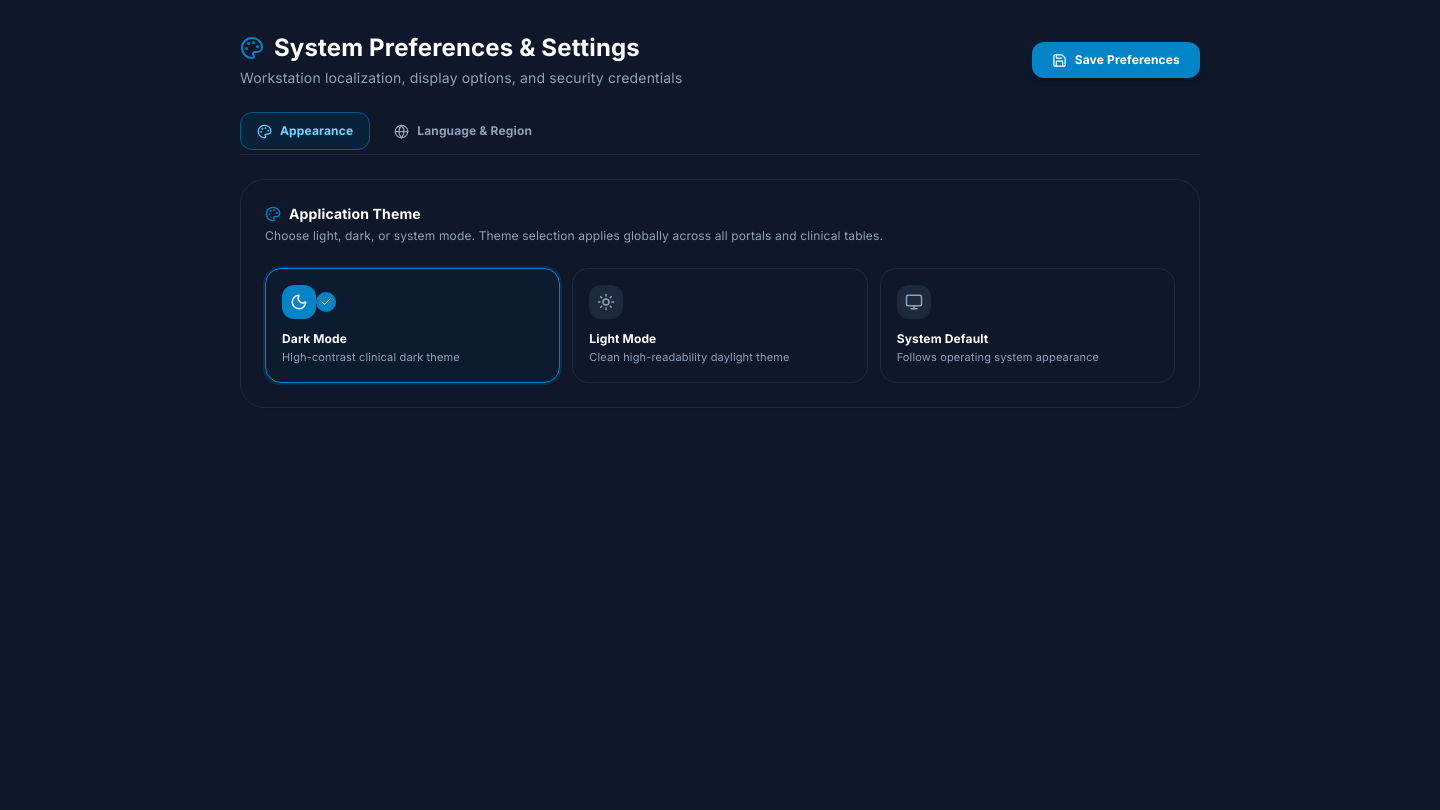
Test: Settings Page Simplification & Verification › 3. Functional Save Action & Feedback › persists selected settings when Save Settings button is clicked and shows success feedback
The image size is (1440, 810).
Select light theme
Click the button with test id "theme-option-light": [606, 302] box [572, 268, 868, 382]
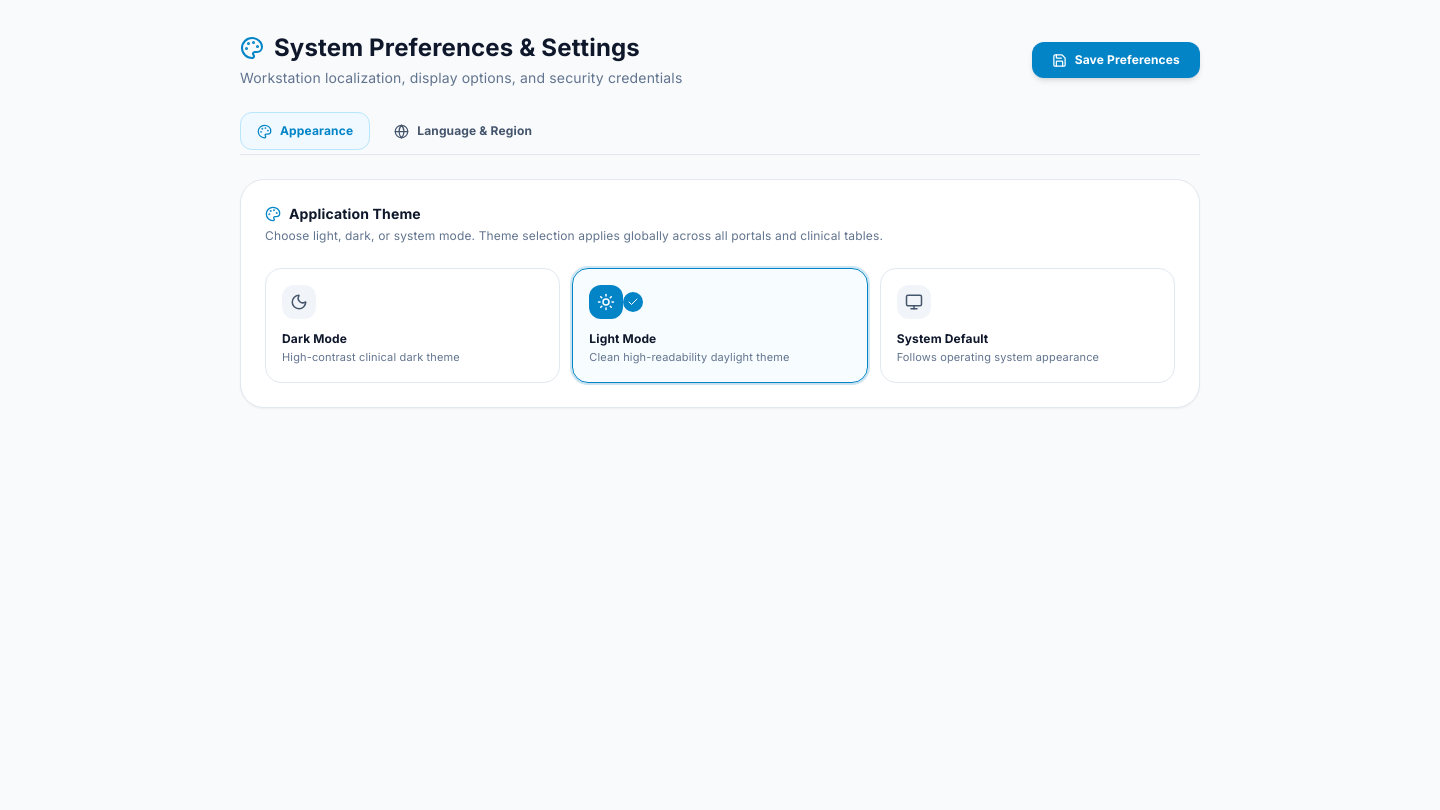
Switch to language tab and configure region
Click the button "Language & Region": [463, 131] box [378, 113, 548, 149]
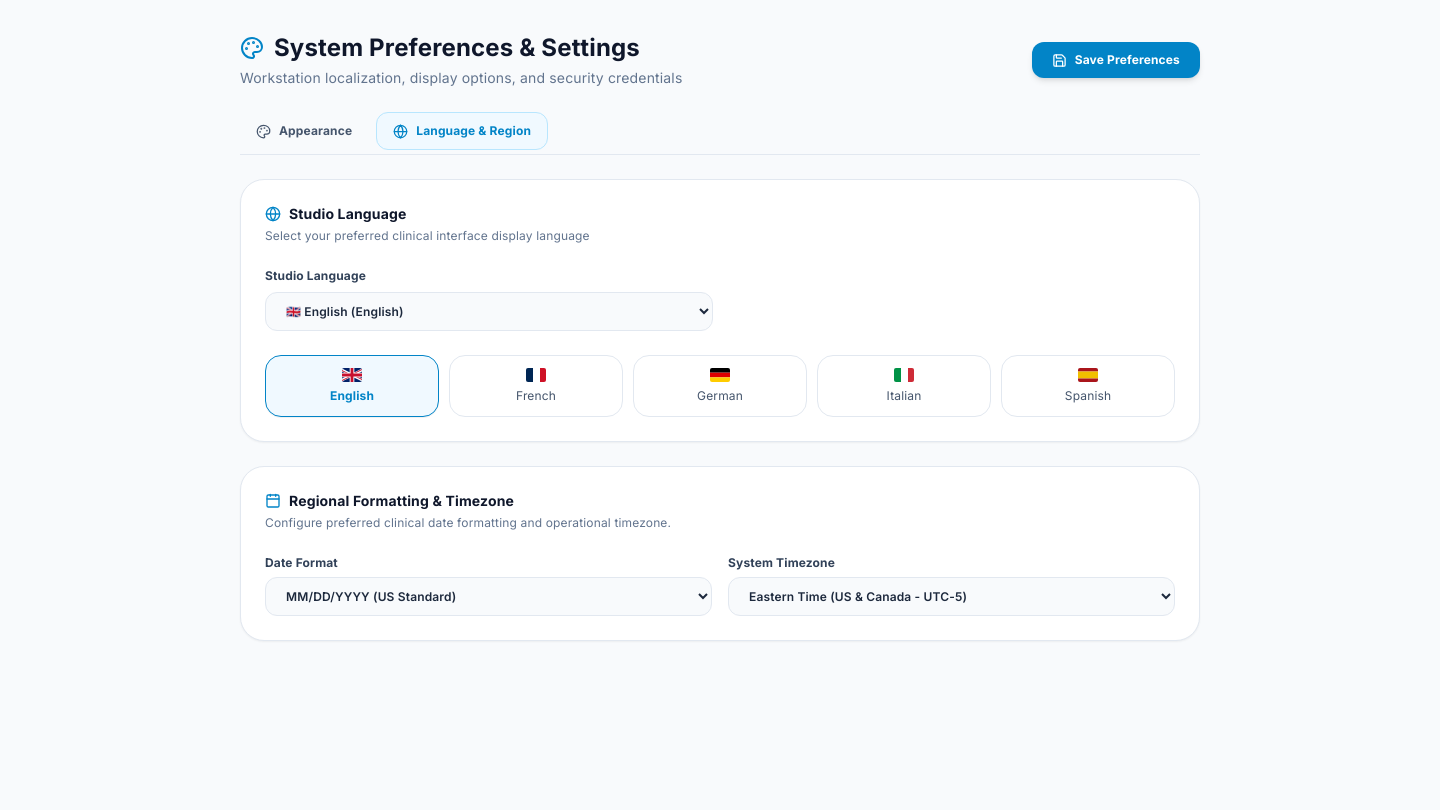
Select "YYYY-MM-DD (ISO 8601)" in the dropdown labelled "Date Format": [488, 596] box [265, 577, 712, 616]
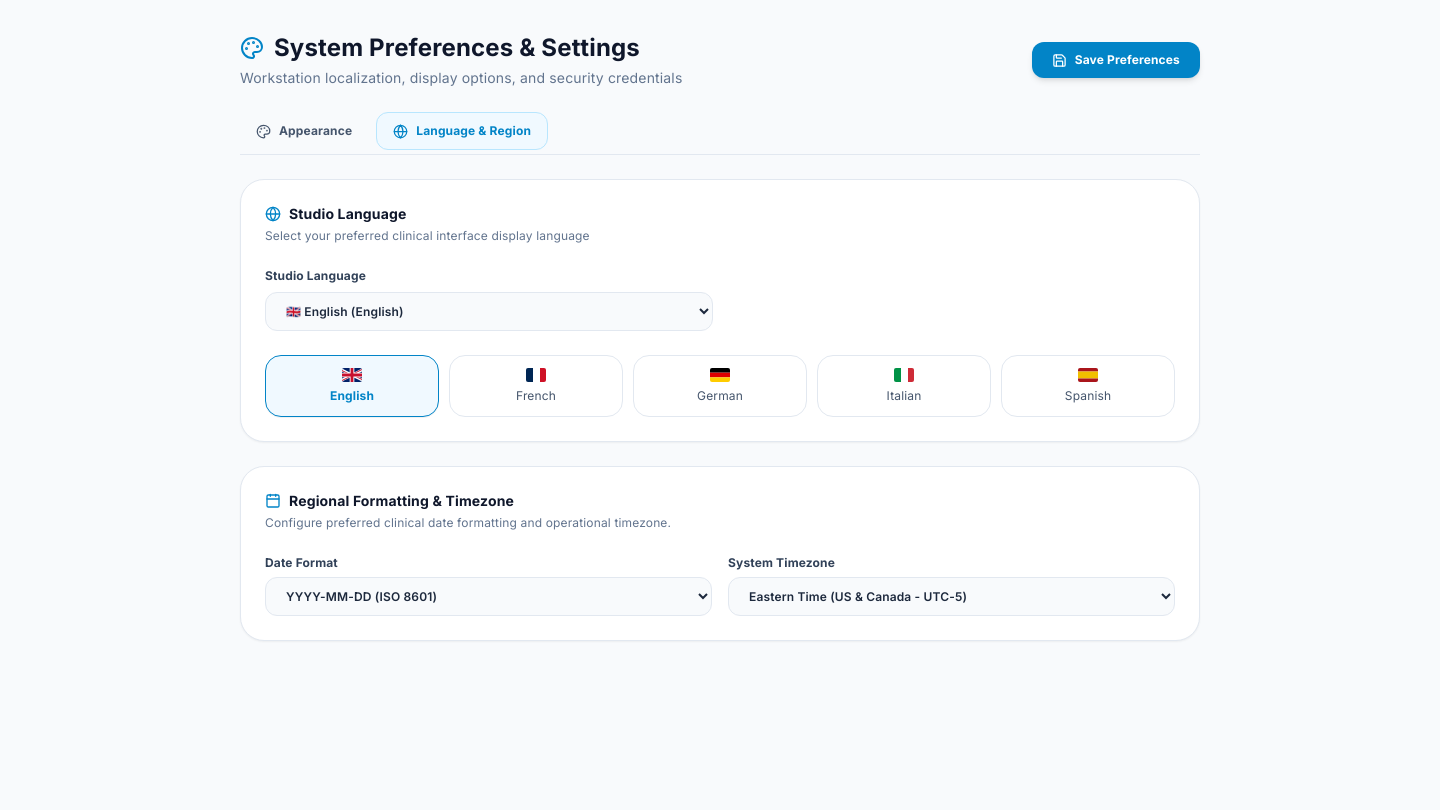
Select "Paris / Berlin (UTC+1)" in the dropdown named "operational timezone": [952, 596] box [728, 577, 1175, 616]
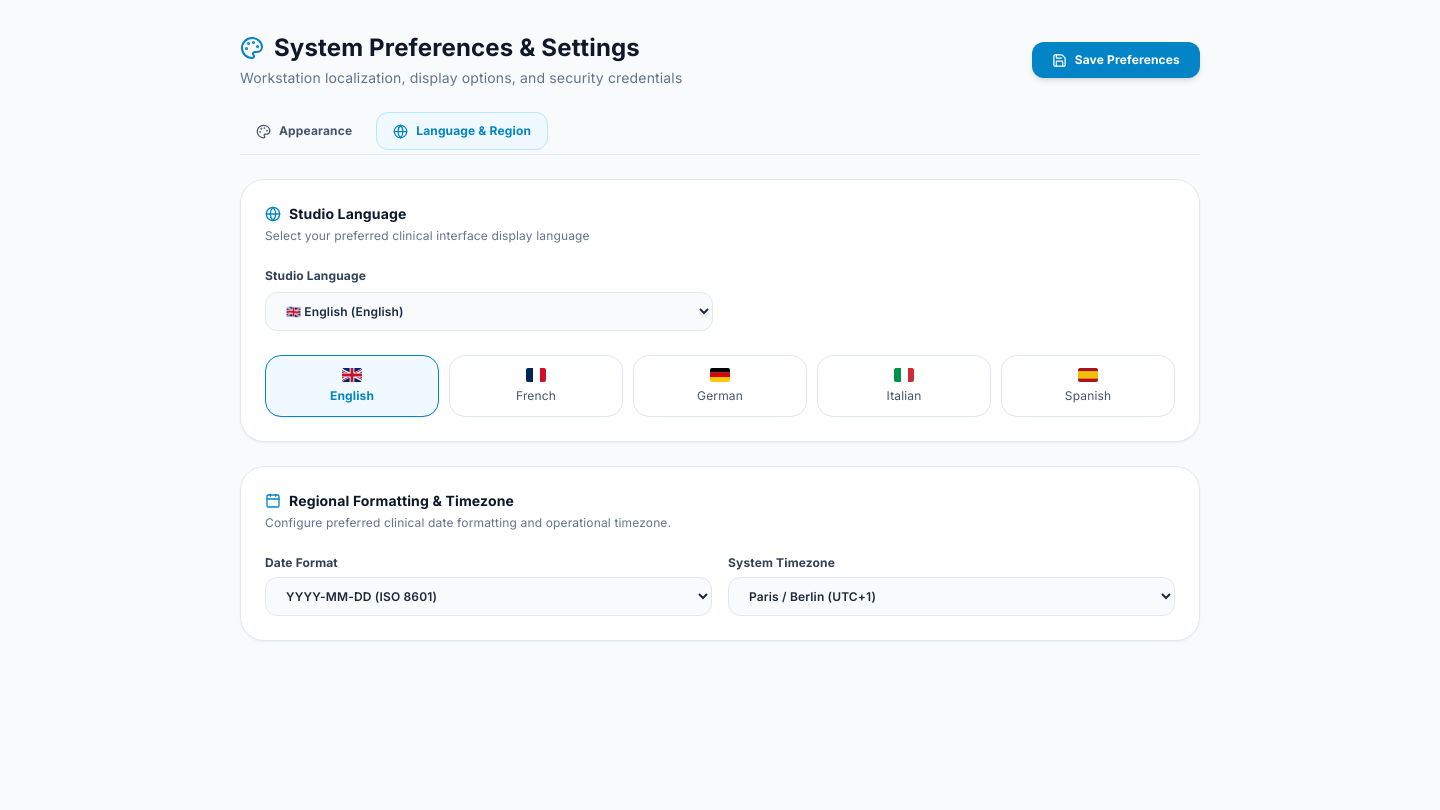
Click Save Settings
Click the button with test id "save-settings-button": [1116, 60] box [1032, 42, 1200, 78]
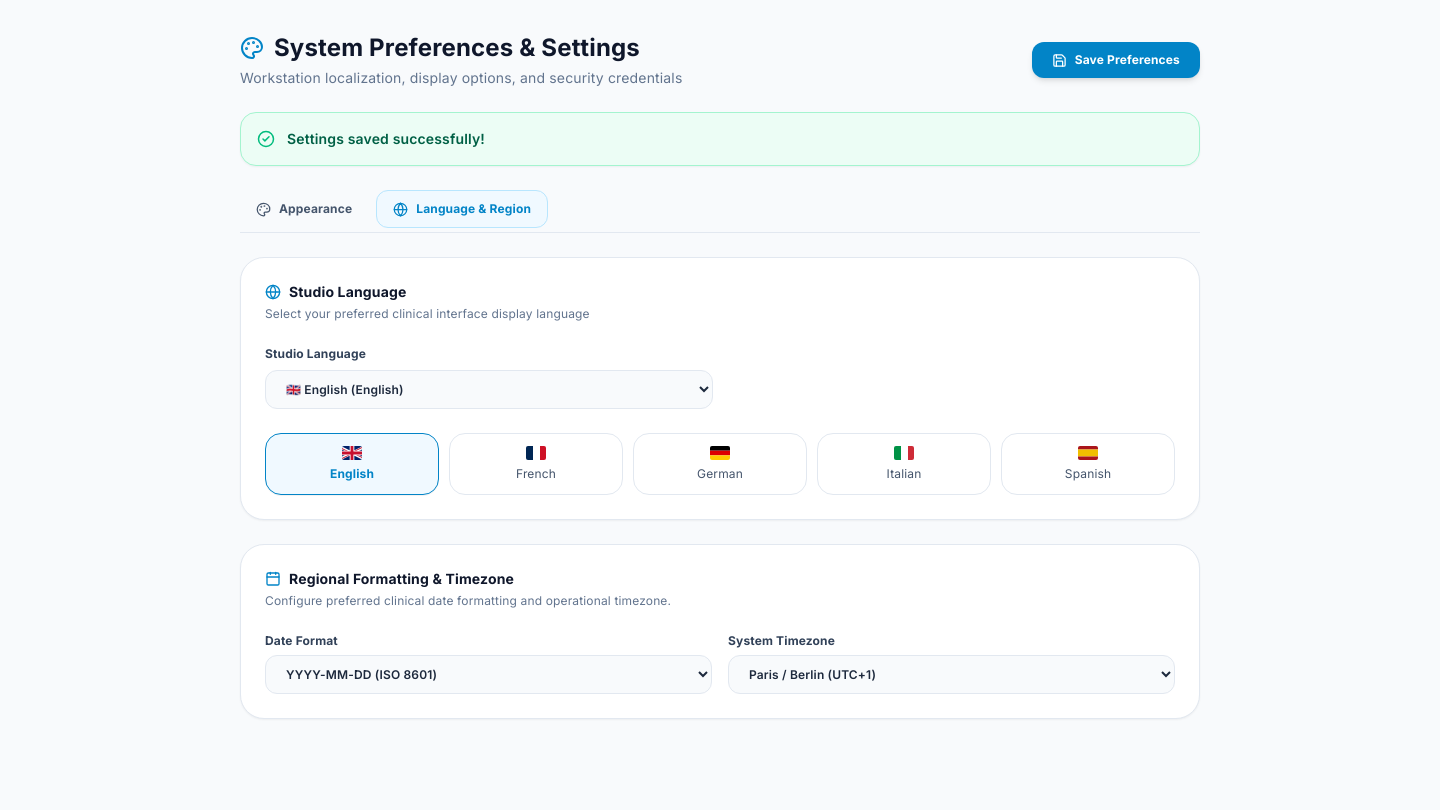
Result: the element with test id "save-status-banner" is shown at [240, 112, 1200, 166]
Result: the text "Settings saved successfully!" is shown at [287, 129, 485, 149]
